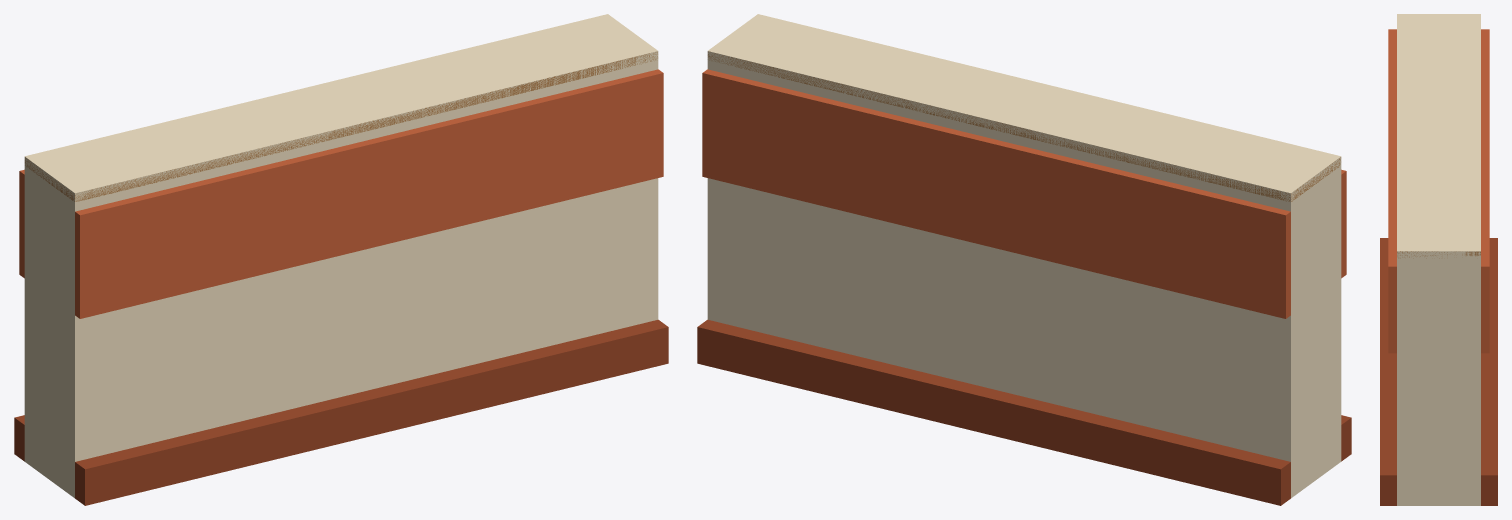
The model's file is partition.glb.
3 renders of one model, left to right at view 1: azimuth 30°, elevation 25°; view 2: azimuth 150°, elevation 25°; view 3: azimuth 270°, elevation 25°, orthographic. The views are drawn at different scales.
Visible parts, largest first — view 1: partition; view 2: partition; view 3: partition.
Boxes of the visible parts, left/top/right/bottom form: partition: left=14, top=14, right=668, bottom=505; partition: left=697, top=14, right=1351, bottom=505; partition: left=1380, top=14, right=1497, bottom=505.
Bounding box in the file's own units: 1 × 0.5 × 0.21.
Materials: 1 (1 with a texture image).
